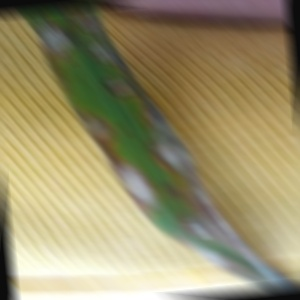Brown_Spot: (174, 178, 264, 280), (140, 90, 194, 179), (102, 154, 154, 211), (74, 106, 124, 153), (29, 15, 80, 57), (85, 33, 122, 71), (96, 74, 142, 101), (75, 7, 118, 35)
